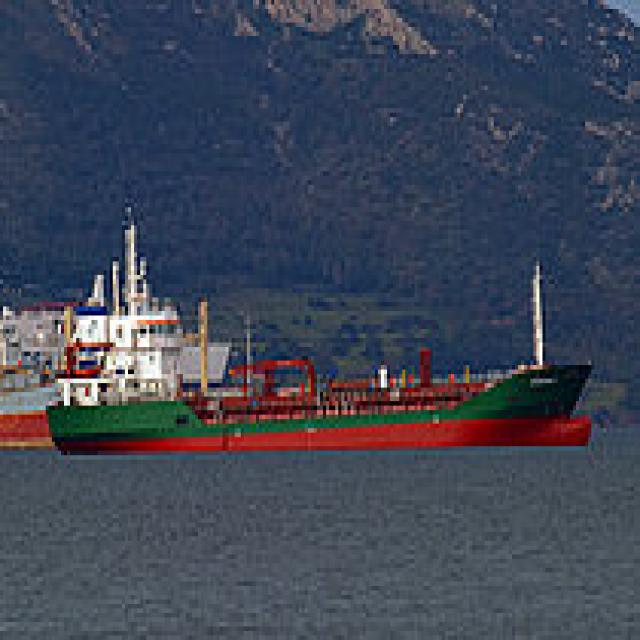Tanker: (40, 203, 594, 451), (0, 270, 232, 438)
